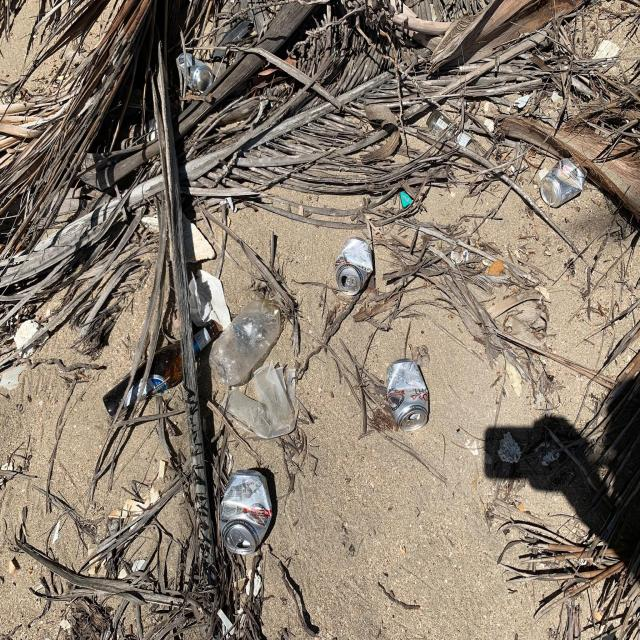litter: (101, 319, 218, 422), (210, 300, 286, 385), (223, 367, 297, 442), (220, 472, 273, 551), (387, 360, 429, 431), (428, 109, 487, 159), (540, 156, 588, 205), (335, 236, 373, 292), (178, 47, 215, 91), (215, 607, 237, 636)
